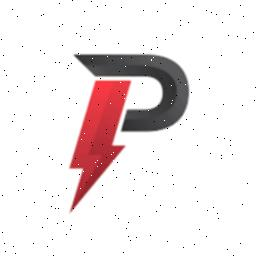p: (64, 44, 192, 220)
